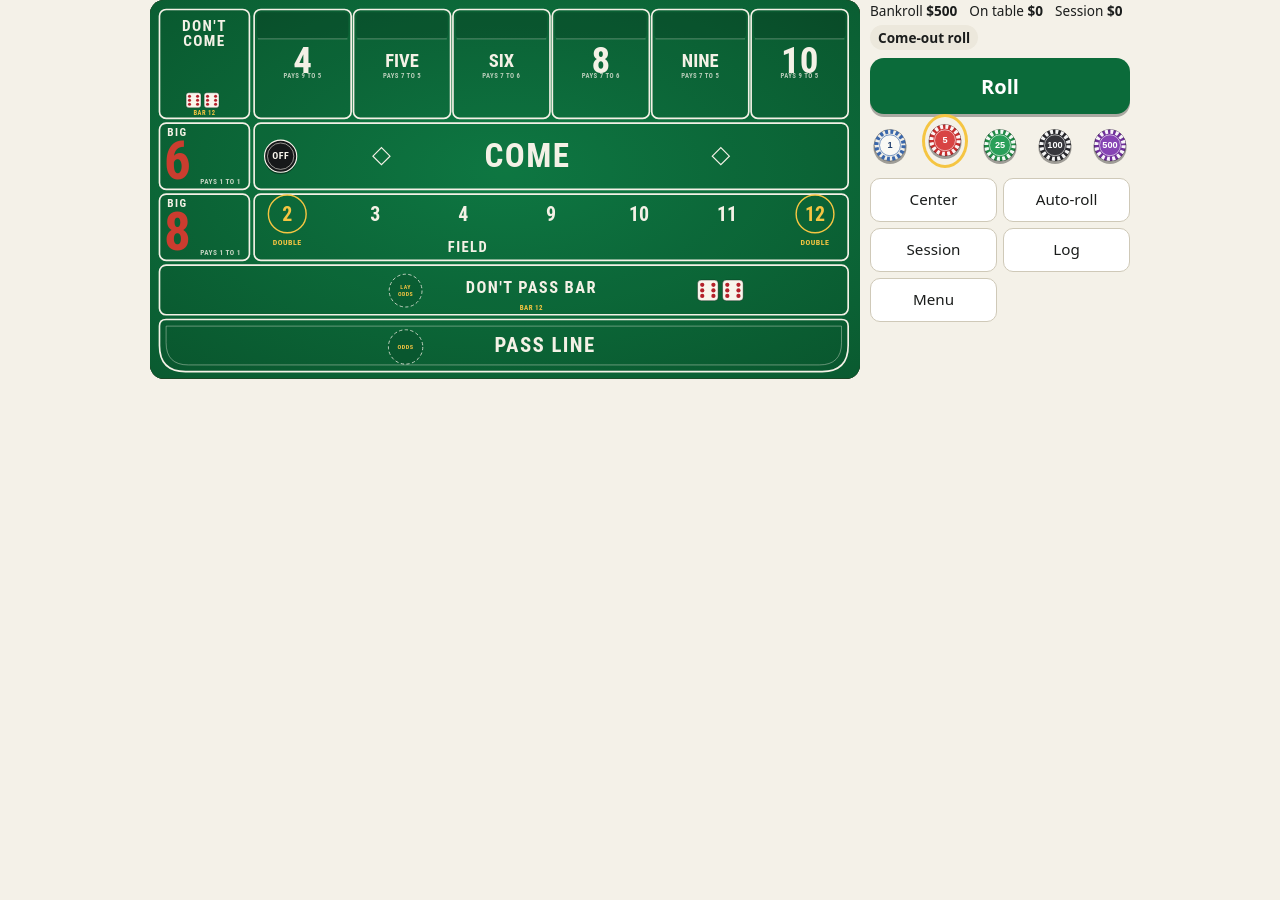
Test case: watch mode › scrubbing jumps to a roll and pauses
The image size is (1280, 900).
Click the button "Auto-roll".
click(1066, 200)  # box [1003, 178, 1130, 222]
(page scrolled)
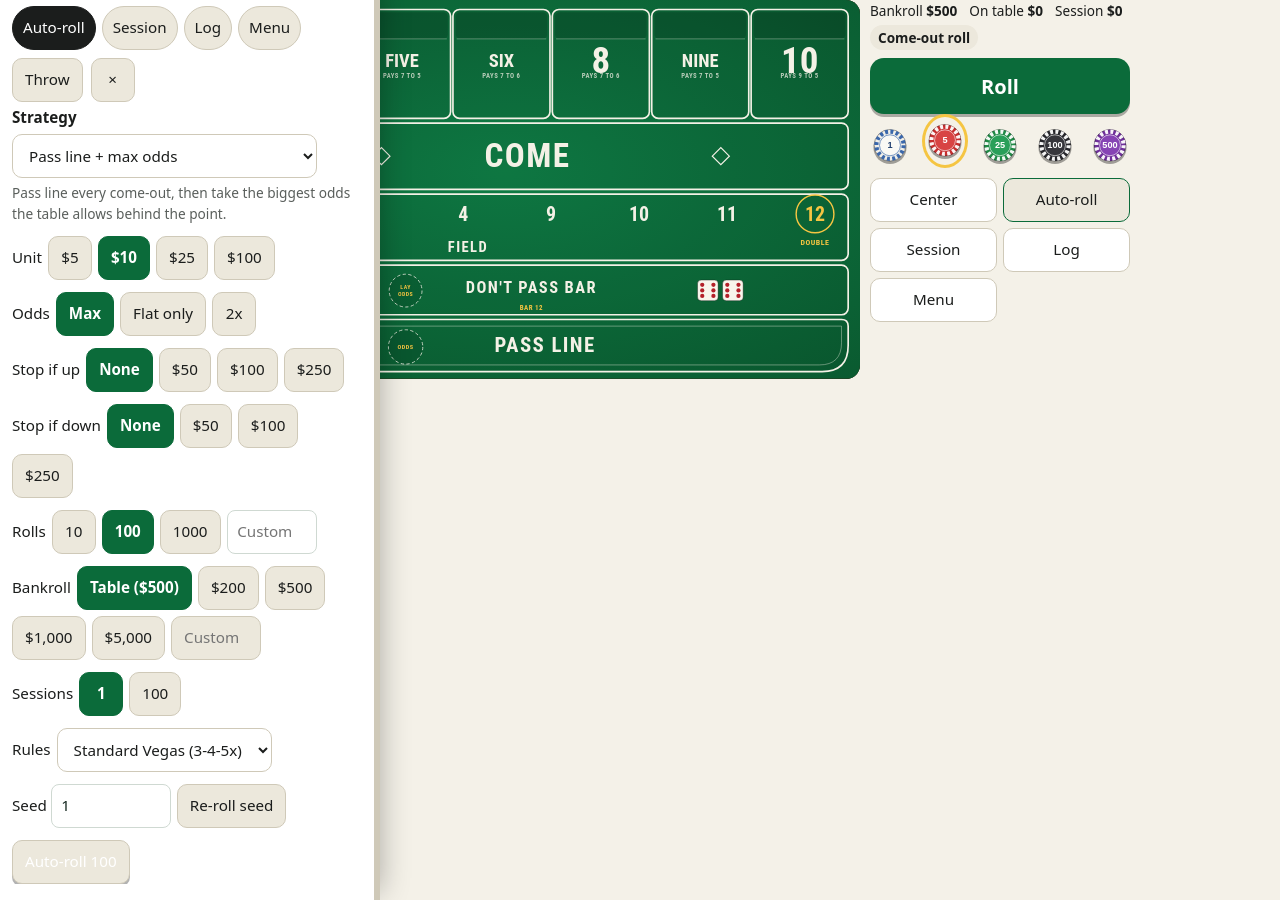
Now the element with class "sim-autoroll" is shown, box [12, 110, 362, 884]
Click the button "Auto-roll 100".
click(71, 862)  # box [12, 840, 130, 884]
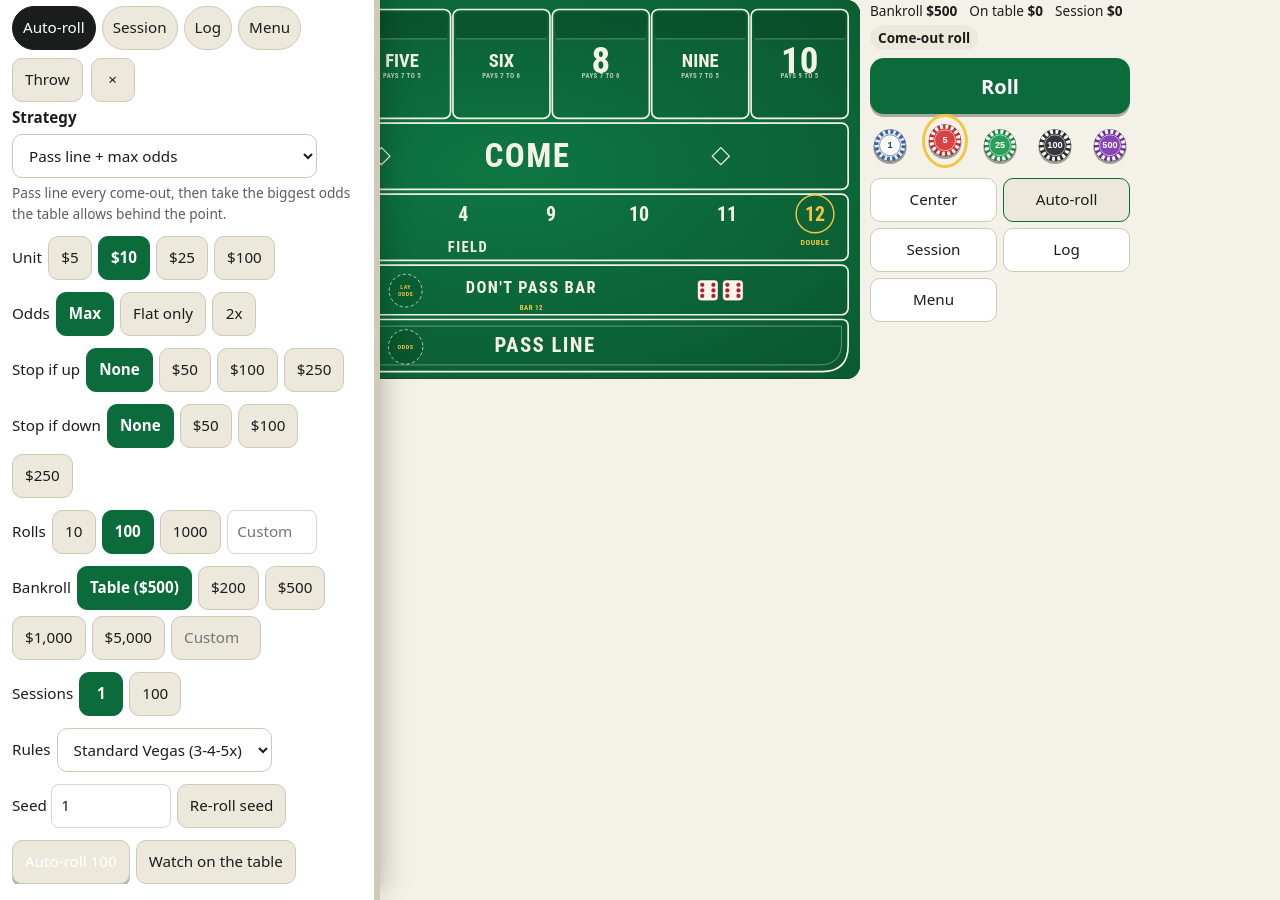
Now the button "Watch on the table" is shown
Click the button "Watch on the table".
click(216, 862)  # box [136, 840, 296, 884]
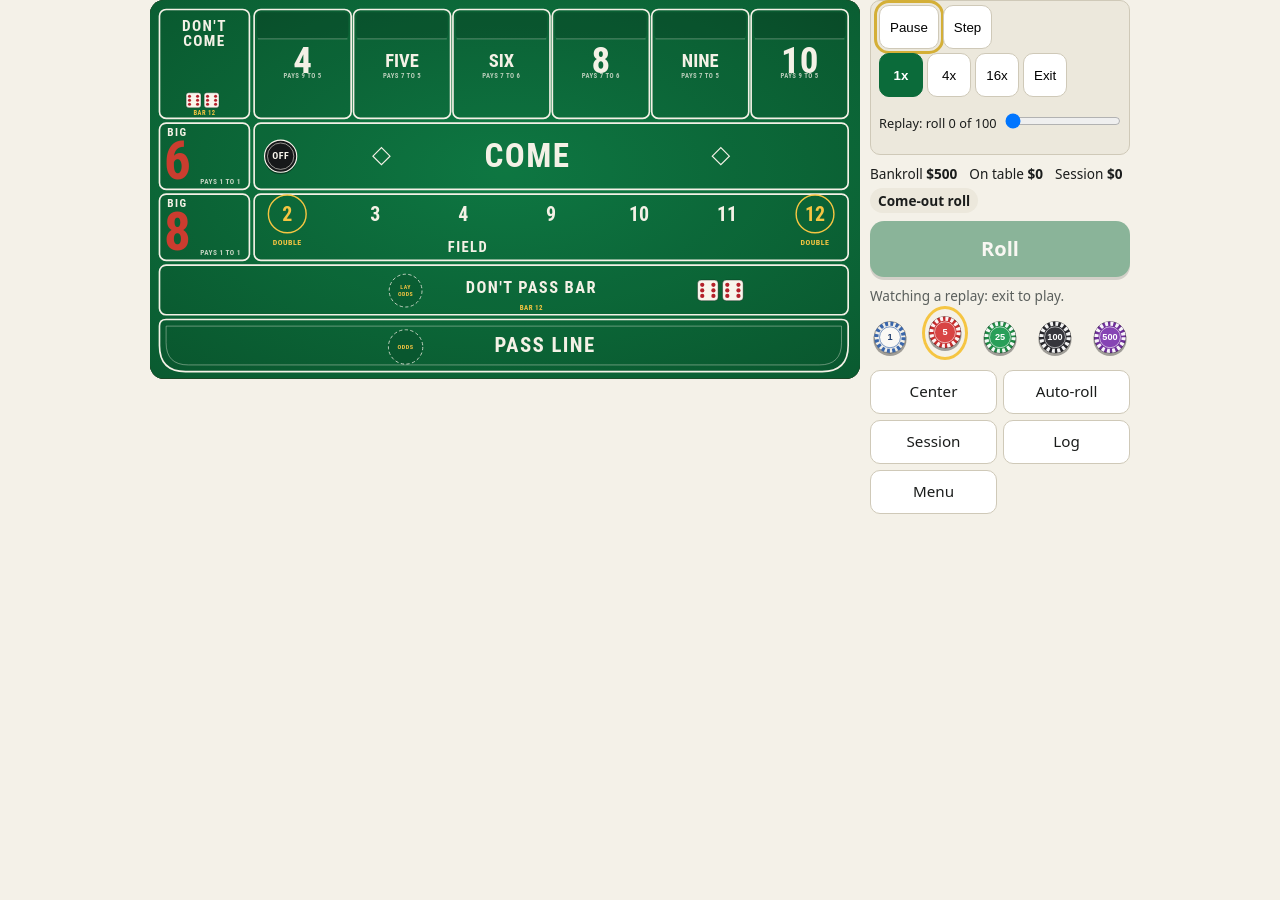
Now the slider named "Scrub the replay" is shown
Set the slider named "Scrub the replay" to "40" at [1053, 121], box [1005, 99, 1121, 143]
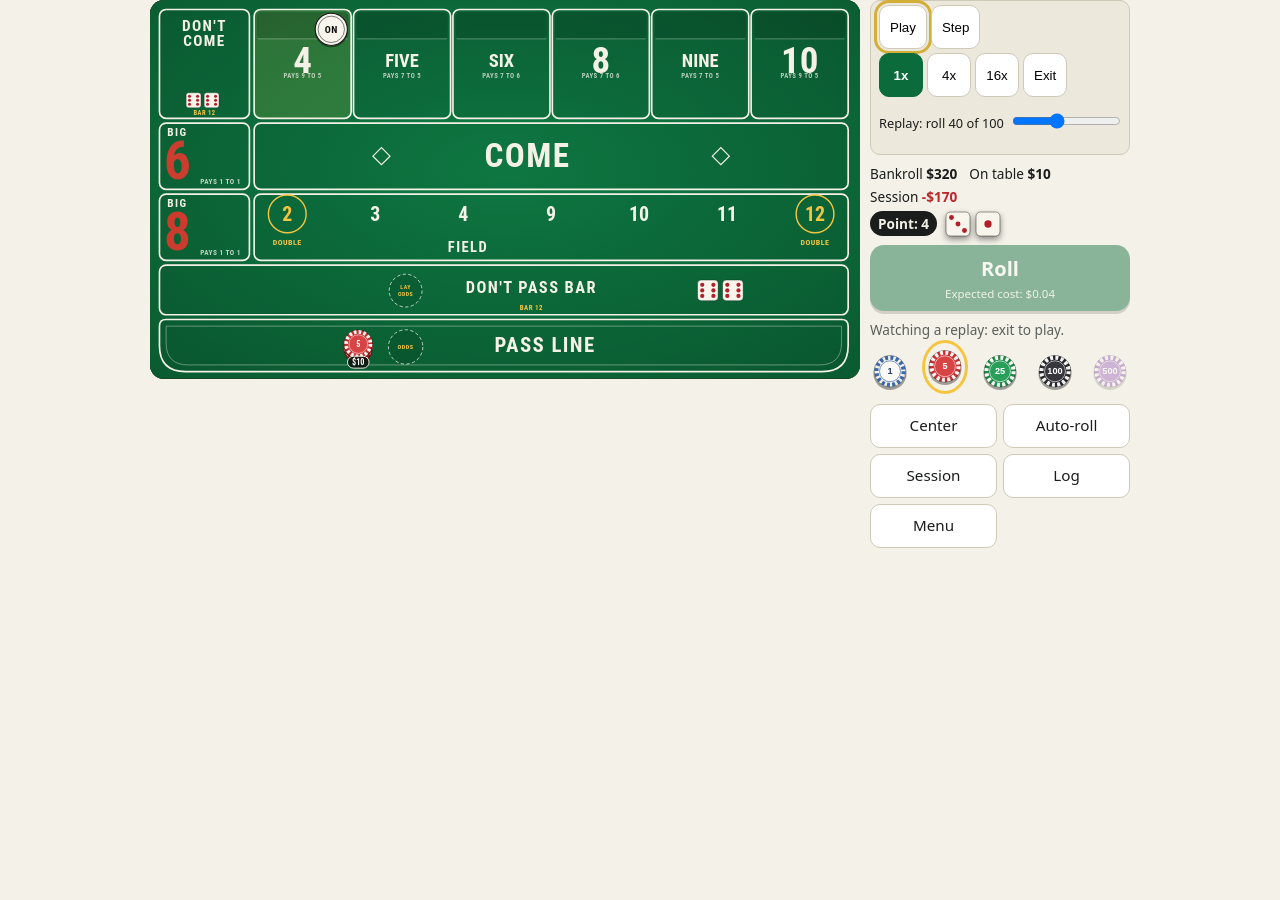
Now the element with test id "watch-controls" shows "roll 40 of 100", box [870, 0, 1130, 155]
Now the button with test id "watch-toggle" reads "Play", box [879, 5, 927, 49]
